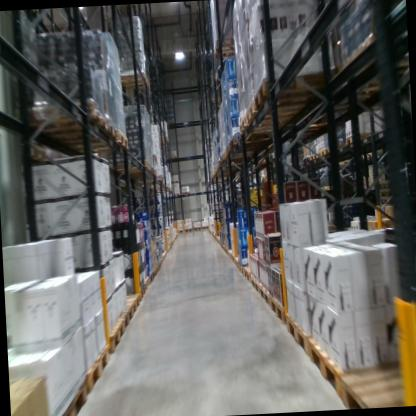pallet: (310, 327, 396, 405), (249, 66, 335, 114), (19, 90, 105, 134), (338, 359, 409, 407), (241, 93, 304, 128), (50, 121, 120, 150), (235, 111, 304, 137), (81, 337, 113, 393), (48, 374, 89, 416), (72, 129, 133, 156), (284, 318, 309, 359), (228, 130, 267, 156), (105, 314, 127, 353), (118, 67, 153, 90), (342, 127, 377, 149), (115, 303, 135, 332), (120, 289, 140, 315), (225, 143, 268, 154), (271, 294, 286, 323), (259, 281, 272, 312), (323, 143, 343, 157), (224, 148, 244, 162), (243, 266, 258, 284), (220, 152, 240, 164), (251, 274, 261, 295), (362, 149, 378, 162), (233, 255, 246, 269), (227, 248, 239, 261), (153, 185, 173, 192), (138, 283, 145, 301), (316, 147, 325, 159), (144, 273, 150, 289), (180, 189, 191, 197), (310, 151, 317, 163), (238, 262, 244, 276), (149, 271, 155, 284), (230, 255, 238, 264), (303, 153, 310, 163), (183, 226, 193, 232), (176, 228, 184, 235), (193, 225, 202, 231), (172, 192, 182, 196), (172, 180, 180, 185), (201, 225, 208, 229)
